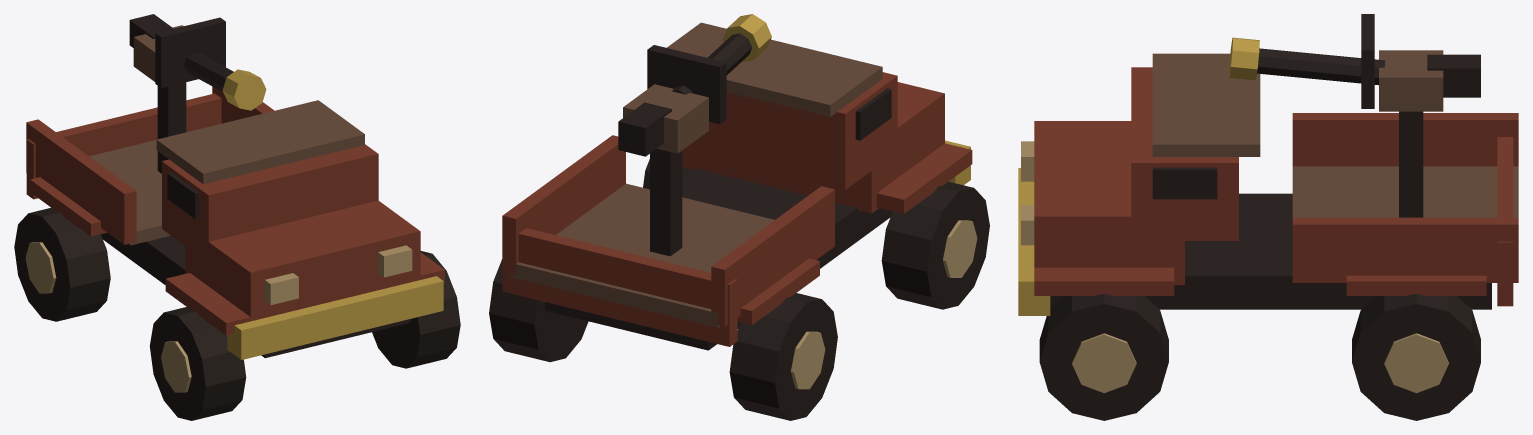
Rendered from enemy_technical.glb.
3 views of the same model, side by side, from view 1: azimuth 30°, elevation 25°; view 2: azimuth 150°, elevation 25°; view 3: azimuth 270°, elevation 25° (orthographic). The views are drawn at different scales.
Parts seen in each view (by area): view 1: body; view 2: body; view 3: body.
Part boxes in pixels (<box>): body: <box>14,14,460,420</box>; body: <box>489,14,989,420</box>; body: <box>1018,14,1518,420</box>.
Bounding box in the file's own units: 0.644 × 0.65 × 0.93.
